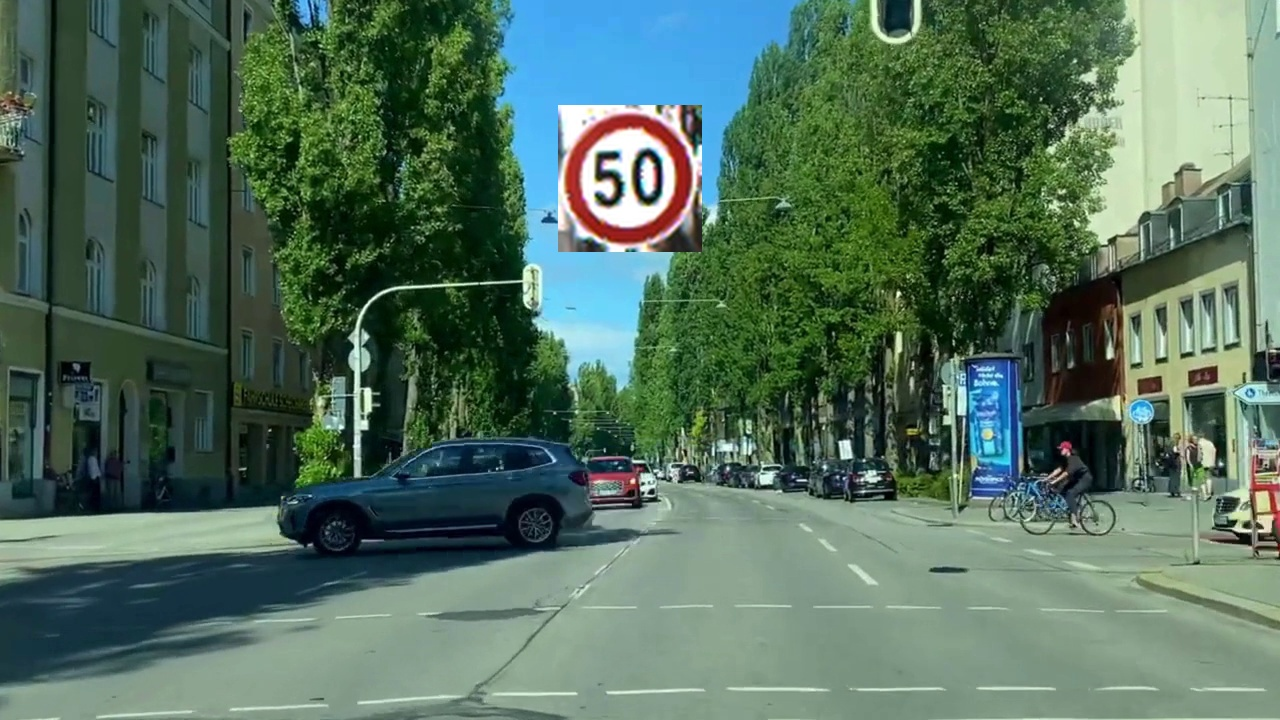Speed 50: (558, 105, 702, 252)
